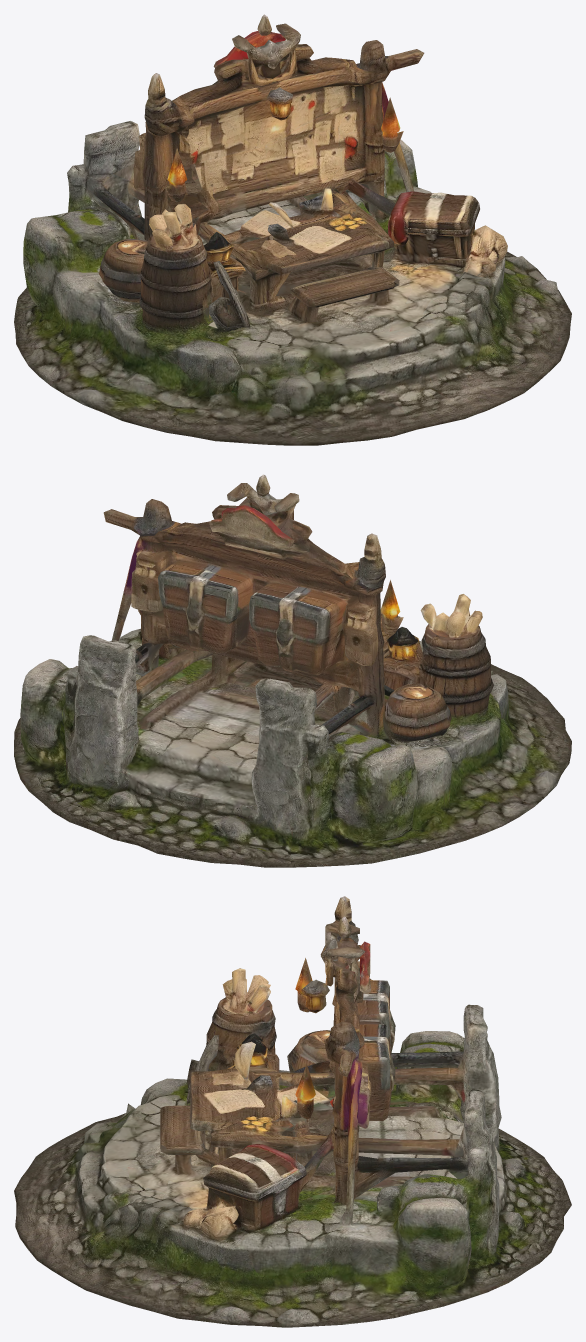
The model's file is rooms.glb.
3 renders of one model, top to bottom at view 1: azimuth 30°, elevation 25°; view 2: azimuth 150°, elevation 25°; view 3: azimuth 270°, elevation 25°, orthographic.
Size of the model in its own units: 1.9 by 1.1 by 1.89.
1 material, 1 textured.
